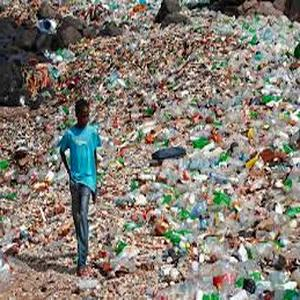Plastic: (74, 275, 98, 292)
